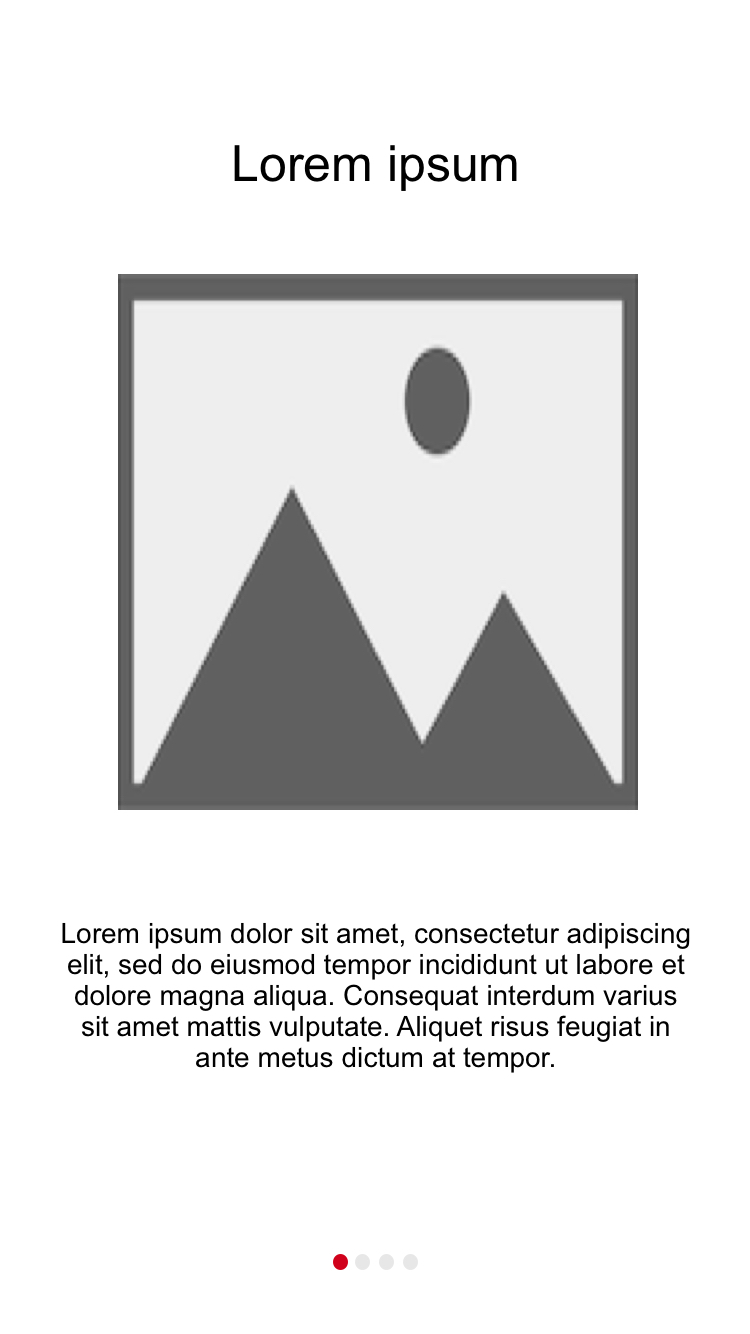Image: (118, 274, 639, 811)
PageIndicator: (326, 1254, 414, 1273)
Text: (62, 922, 690, 1074), (234, 145, 518, 193)
